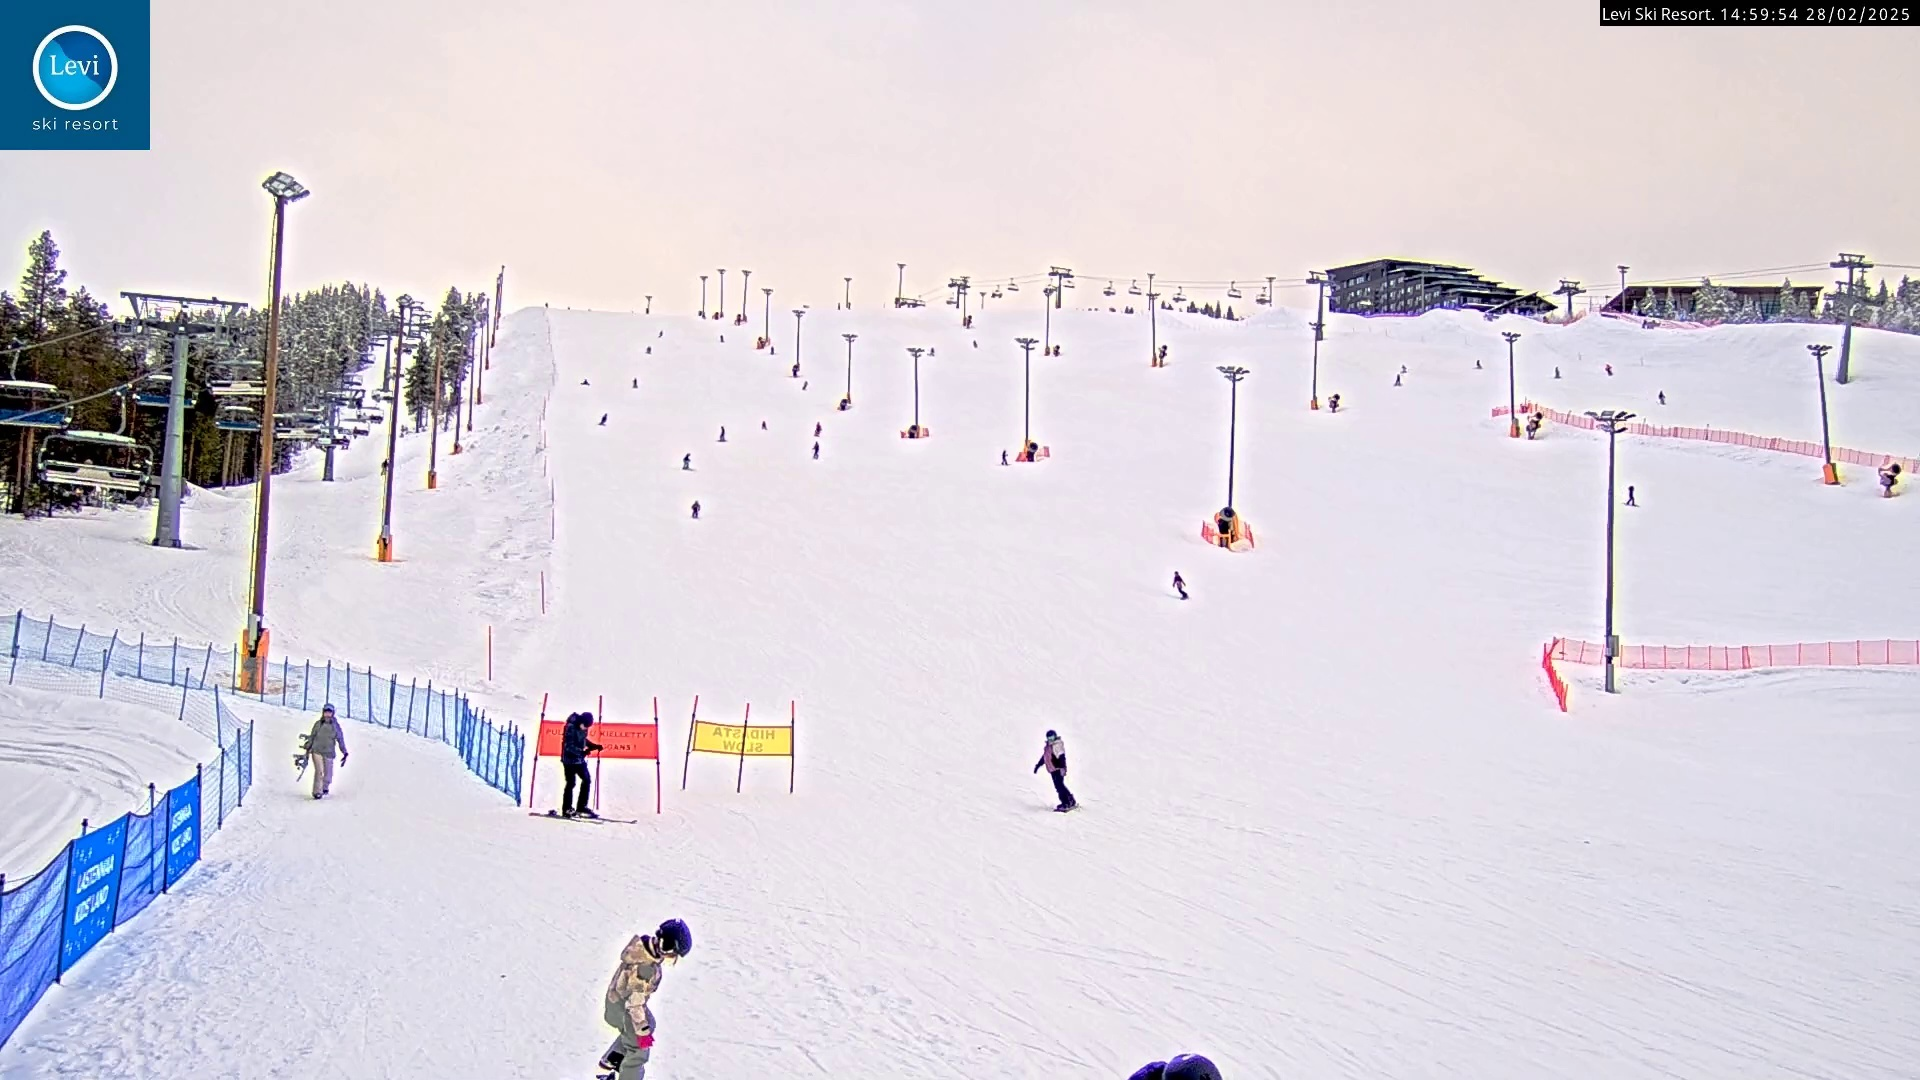snowboarder: (1029, 727, 1087, 814), (1167, 570, 1192, 604)
